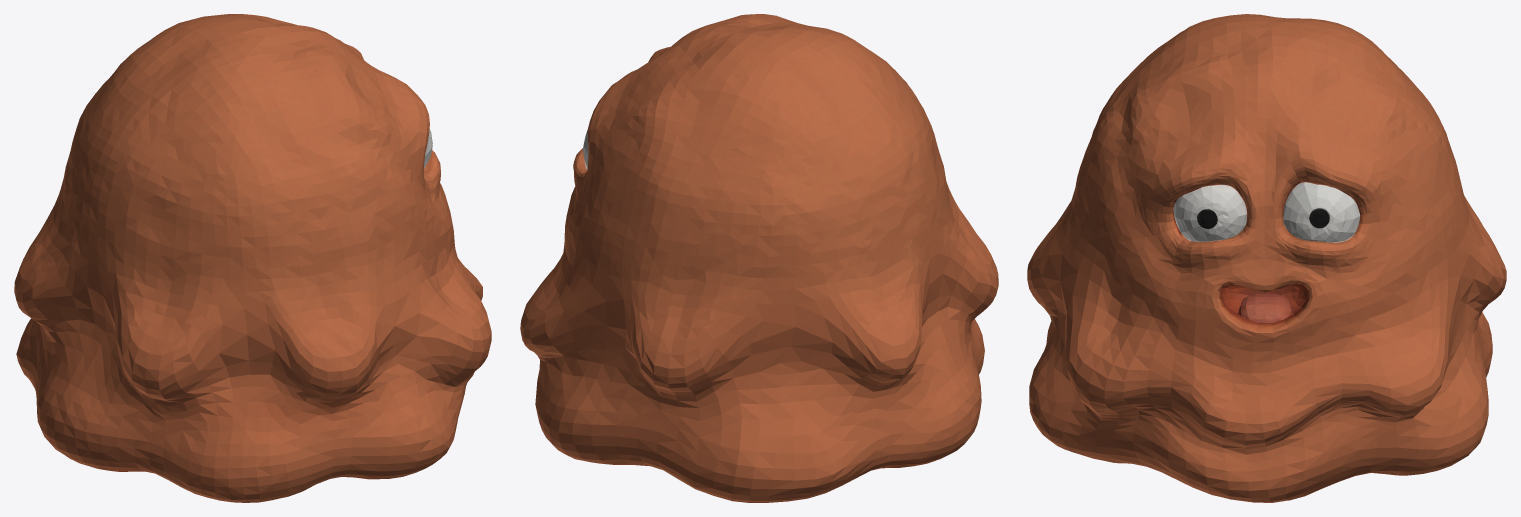
File: cleo.glb
3 renders of one model, left to right at view 1: azimuth 30°, elevation 25°; view 2: azimuth 150°, elevation 25°; view 3: azimuth 270°, elevation 25°, orthographic.
Parts seen in each view (by area): view 1: tripo_node_dca517b3-2880-4903-b677-a94e58647f97; view 2: tripo_node_dca517b3-2880-4903-b677-a94e58647f97; view 3: tripo_node_dca517b3-2880-4903-b677-a94e58647f97.
Boxes of the visible parts, x1,y1,x2,y2 form: tripo_node_dca517b3-2880-4903-b677-a94e58647f97: (14, 14, 491, 502); tripo_node_dca517b3-2880-4903-b677-a94e58647f97: (520, 14, 998, 502); tripo_node_dca517b3-2880-4903-b677-a94e58647f97: (1027, 14, 1506, 502).
Size of the model in its own units: 0.998 by 0.8809 by 0.9941.
Materials: 1 (1 with a texture image).
